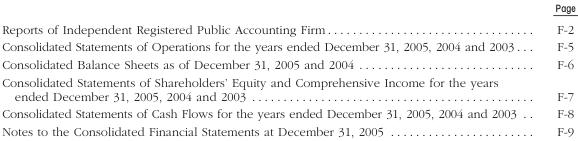table: (1, 1, 574, 138)
table column: (1, 1, 544, 138), (544, 1, 574, 138)
table column header: (1, 1, 574, 17)
table row: (1, 73, 574, 104), (1, 17, 574, 37), (1, 37, 574, 55), (1, 55, 574, 73), (1, 104, 574, 122), (1, 1, 574, 17), (1, 122, 574, 138)
